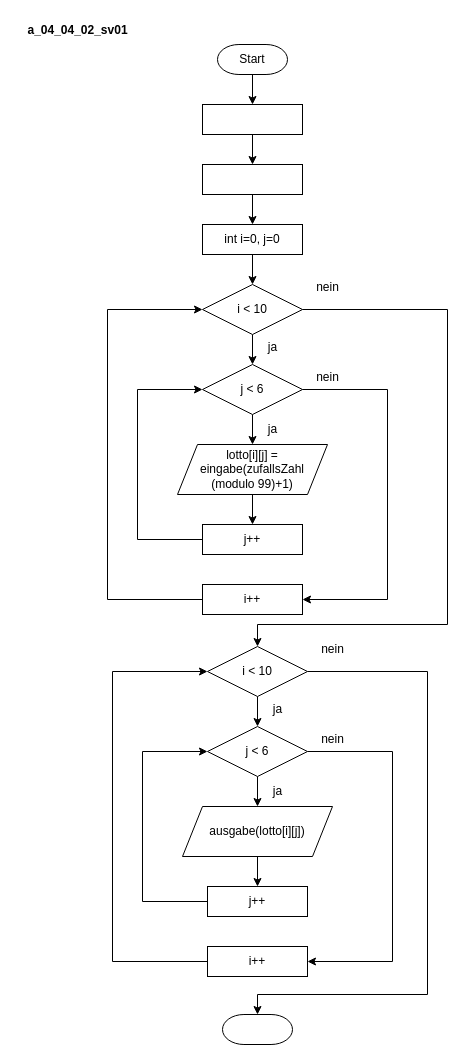
Image size: 473x1062. Some labels were removed from this diagram. The centre of each missing label's shape, as x and y in pixels:
"Ende" goes at point (257, 1029).
"int lotto[10][6]" goes at point (252, 119).
"zufallsGenerator" goes at point (252, 179).
